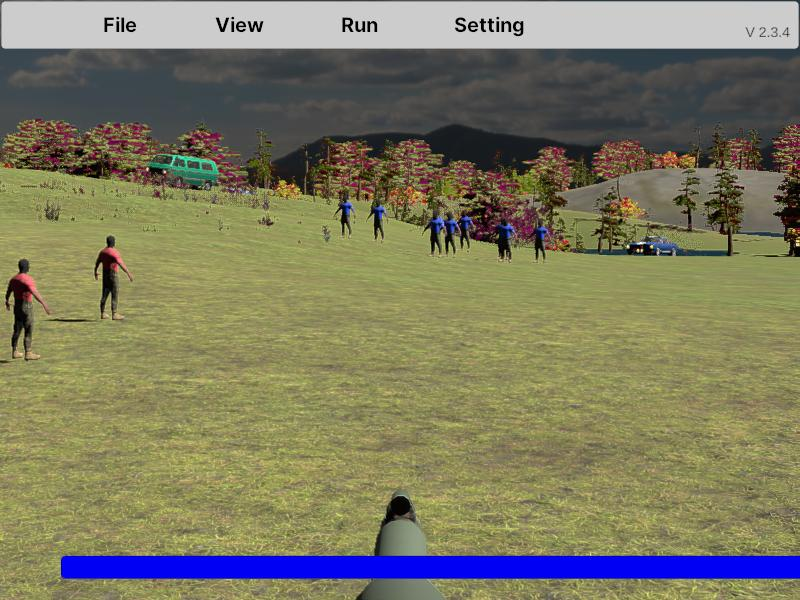Human: (6, 259, 50, 361), (94, 235, 133, 322), (423, 210, 446, 258), (493, 218, 517, 264), (334, 194, 356, 240), (367, 199, 389, 242), (528, 220, 550, 263), (441, 212, 461, 257), (457, 211, 474, 252)
car: (148, 154, 219, 191), (627, 235, 679, 258)
